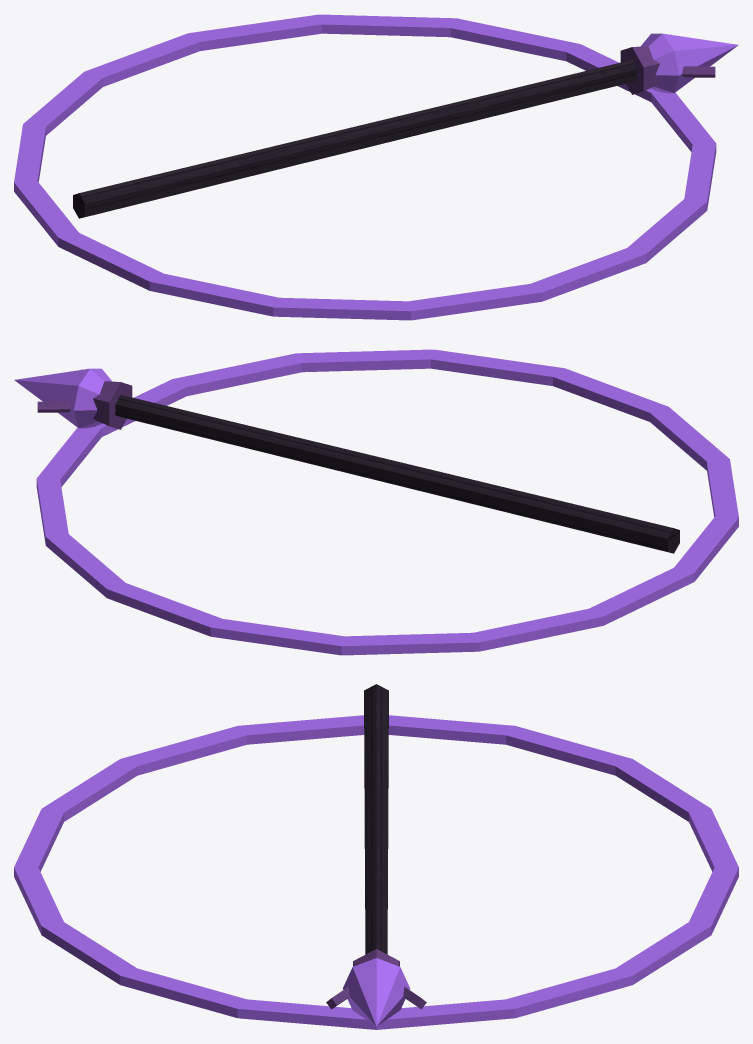
File: loot_staff_g2.glb
3 views of the same model, one above another, from view 1: azimuth 30°, elevation 25°; view 2: azimuth 150°, elevation 25°; view 3: azimuth 270°, elevation 25° (orthographic). The views are drawn at different scales.
Parts seen in each view (by area): view 1: loot_staff_g2; view 2: loot_staff_g2; view 3: loot_staff_g2.
Boxes of the visible parts, x1,y1,x2,y2 form: loot_staff_g2: (14, 14, 738, 320); loot_staff_g2: (14, 349, 738, 655); loot_staff_g2: (14, 684, 738, 1029).
Size of the model in its own units: 1.78 by 0.1651 by 1.61.
3 materials, 2 textured.
